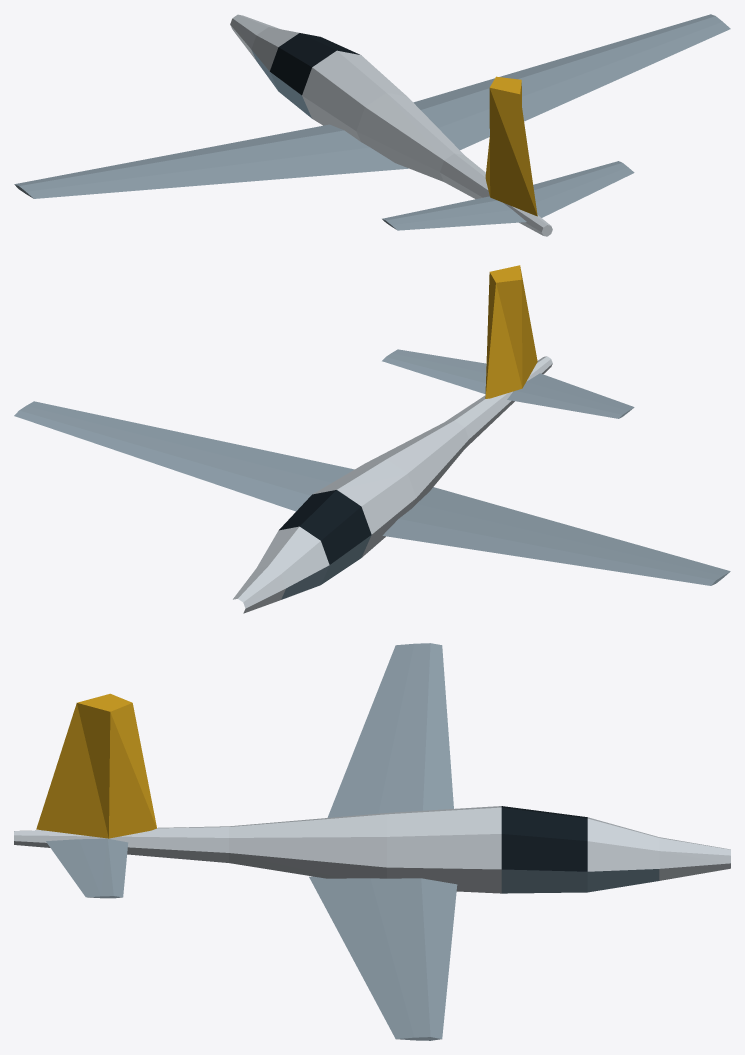
The model's file is plain-light.glb.
3 views of the same model, one above another, from view 1: azimuth 30°, elevation 25°; view 2: azimuth 150°, elevation 25°; view 3: azimuth 270°, elevation 25° (orthographic). The views are drawn at different scales.
Parts seen in each view (by area): view 1: lod0; view 2: lod0; view 3: lod0.
Boxes of the visible parts, x1,y1,x2,y2 form: lod0: (14,14,730,236); lod0: (14,265,730,613); lod0: (14,643,730,1040).
Size of what is drawn, in the model's own units: 1.3 by 0.2912 by 1.
